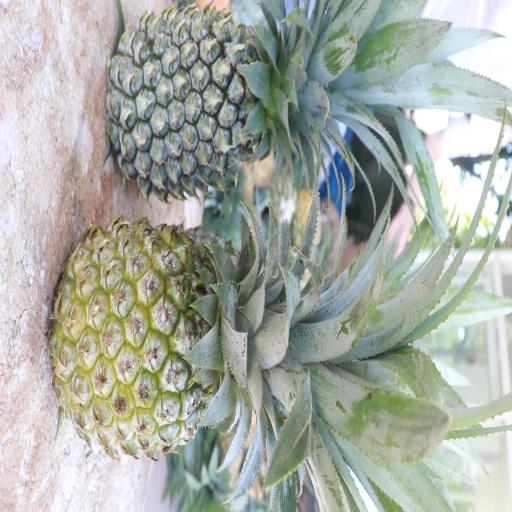------------------------------: (45, 217, 337, 465)
